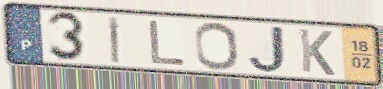3: (44, 11, 91, 64)
I: (107, 15, 122, 65)
J: (246, 24, 289, 75)
K: (297, 27, 338, 78)
L: (147, 19, 188, 67)
O: (192, 21, 241, 72)
